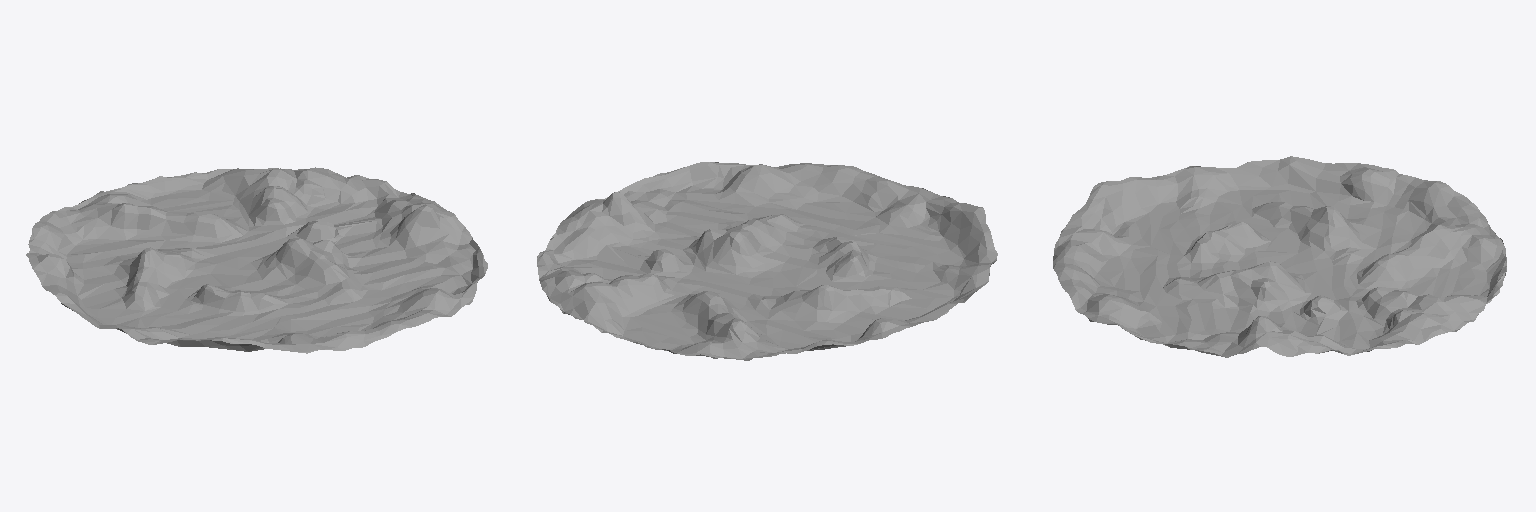
Rendered from all.obj.
3 renders of one model, left to right at view 1: azimuth 30°, elevation 25°; view 2: azimuth 150°, elevation 25°; view 3: azimuth 270°, elevation 25°, orthographic.
Visible parts, largest first — view 1: terrain; view 2: terrain; view 3: terrain.
Boxes of the visible parts, x1=… form: terrain: x1=26, y1=167, x2=487, y2=353; terrain: x1=537, y1=162, x2=997, y2=360; terrain: x1=1053, y1=156, x2=1506, y2=357.
Bounding box in the file's own units: 3702 × 324 × 3727.